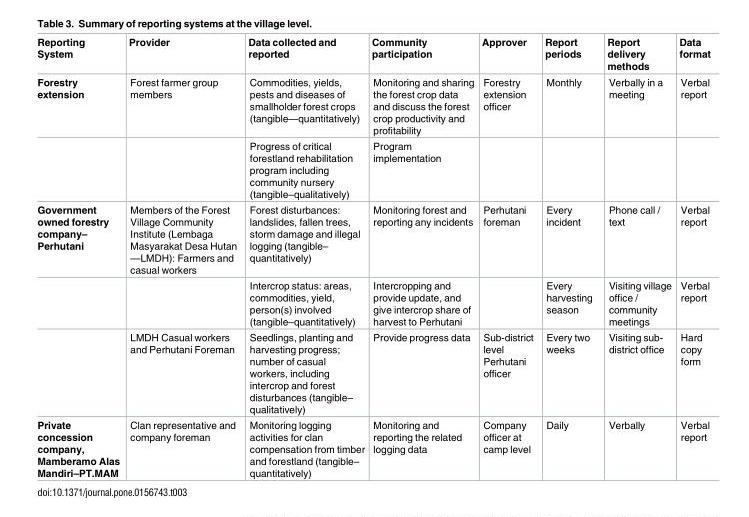table: (36, 37, 709, 478)
table column: (241, 37, 367, 478), (123, 37, 241, 478), (367, 37, 477, 478), (36, 37, 123, 478), (599, 37, 674, 478), (477, 37, 538, 478), (538, 37, 599, 478), (674, 37, 709, 478)
table column header: (36, 37, 709, 74)
table row: (36, 329, 709, 417), (36, 202, 709, 277), (36, 74, 709, 138), (36, 138, 709, 202), (36, 417, 709, 478), (36, 277, 709, 329), (36, 37, 709, 74)
table spanning cell: (36, 202, 123, 417), (36, 74, 123, 202)
